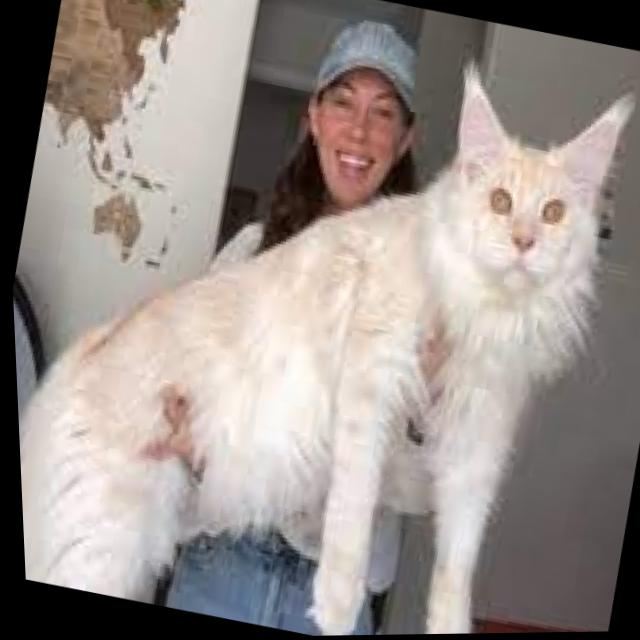cat: (347, 90, 640, 533)
